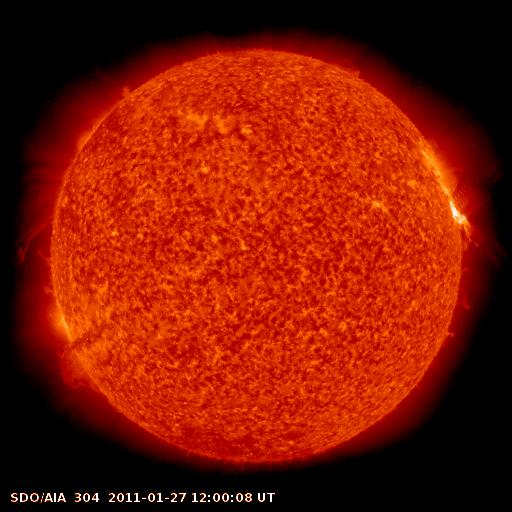prominence: (1, 158, 83, 271), (451, 193, 512, 307), (42, 329, 101, 406), (317, 45, 369, 86)
